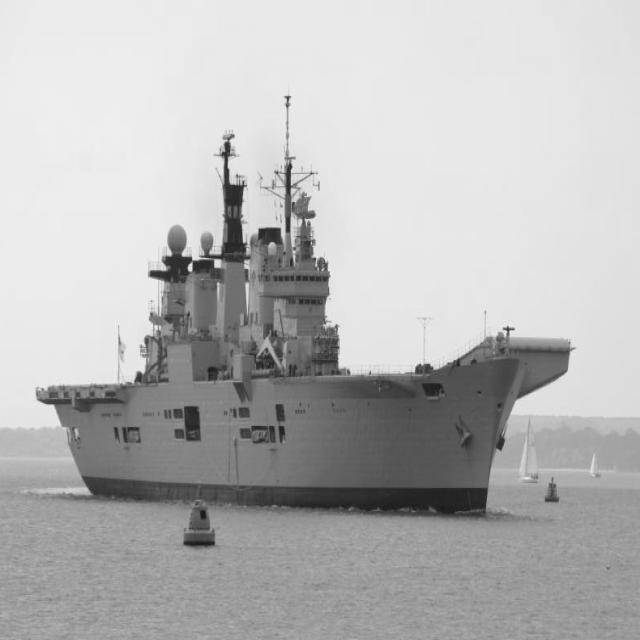Portanaves: (33, 85, 574, 534)
